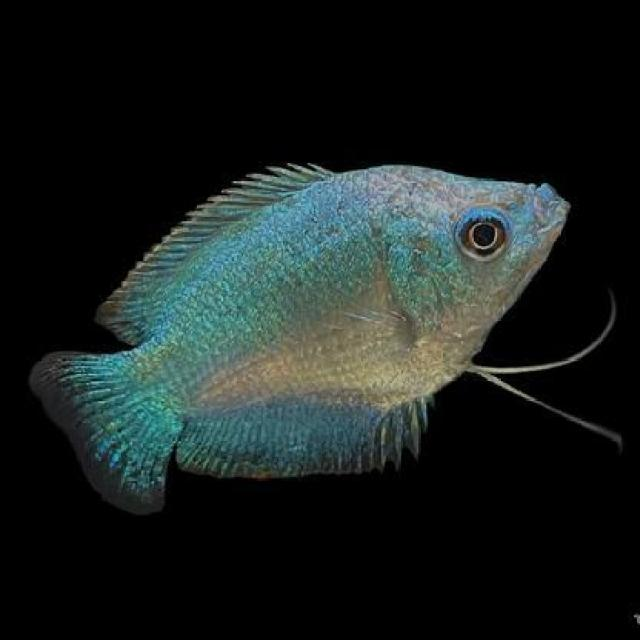Gourami: (24, 144, 582, 510)
